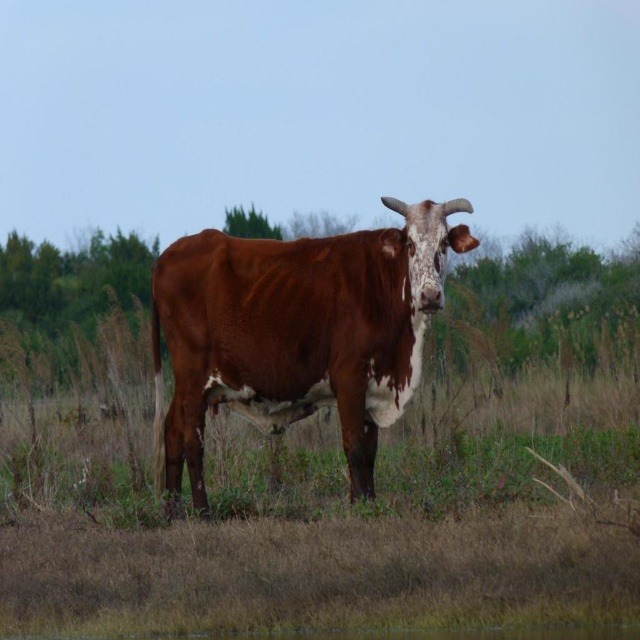Cattle: (133, 189, 492, 516)
